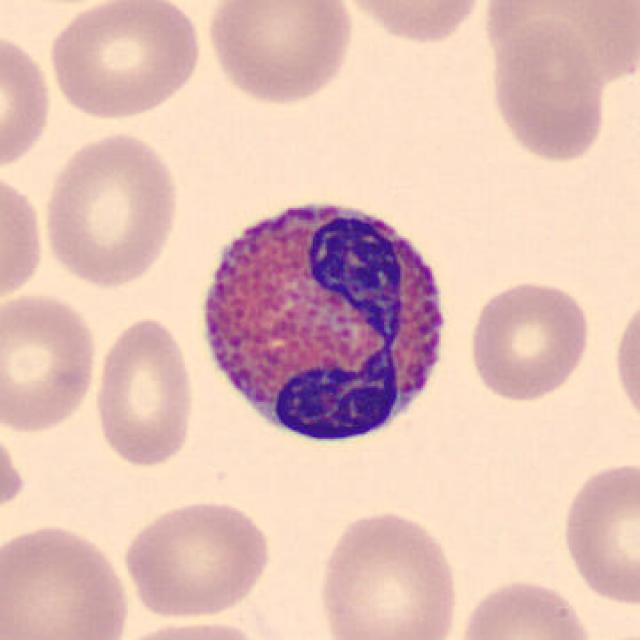Eosinophil: (185, 178, 462, 460)
RBC: (37, 127, 185, 291), (119, 494, 276, 622), (313, 506, 462, 640), (44, 0, 204, 123), (484, 16, 612, 167), (89, 312, 199, 471), (200, 0, 357, 109), (464, 277, 594, 404), (0, 520, 135, 640), (0, 287, 101, 435), (476, 0, 636, 88), (556, 457, 638, 610), (453, 575, 598, 640), (0, 28, 55, 175), (336, 0, 489, 46), (0, 164, 48, 309), (110, 613, 277, 640), (610, 289, 640, 439), (0, 419, 28, 523), (581, 620, 639, 640)
